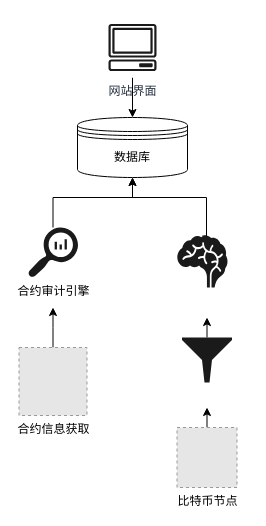
This 266x526 diagram has some shape labels left out. Grey dashed boxes stand in for pictures. Each missing label, with the centre of its shape:
"LSTM模型" goes at pixel 202 261.
"比特币信息提取" goes at pixel 207 359.
